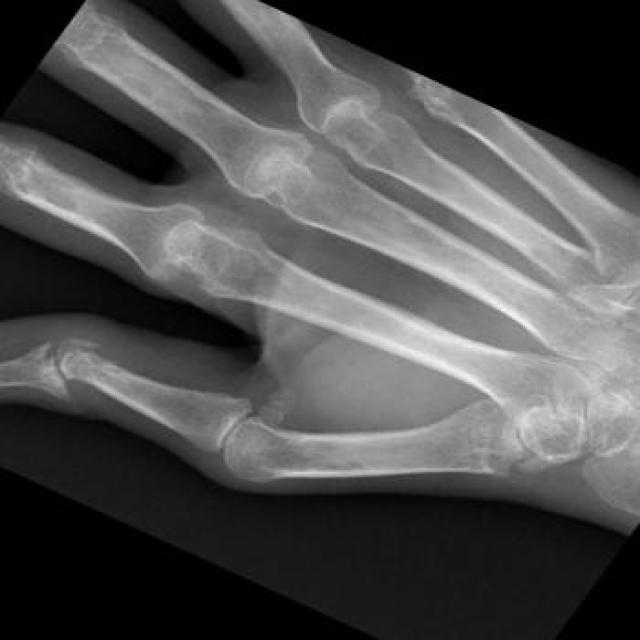Fracture: (31, 331, 78, 407)
